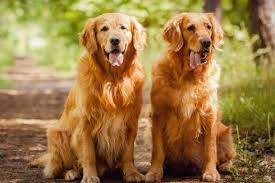Bulldog: (54, 8, 145, 182), (157, 8, 245, 183)
